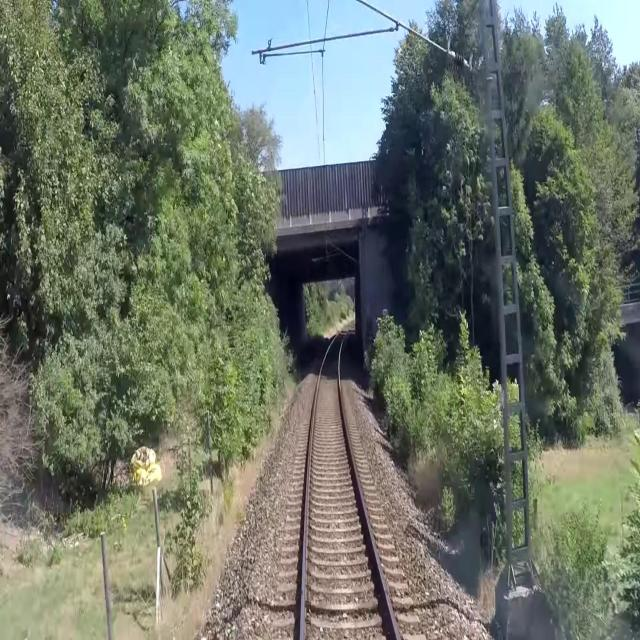rail-track: (305, 319, 395, 639)
